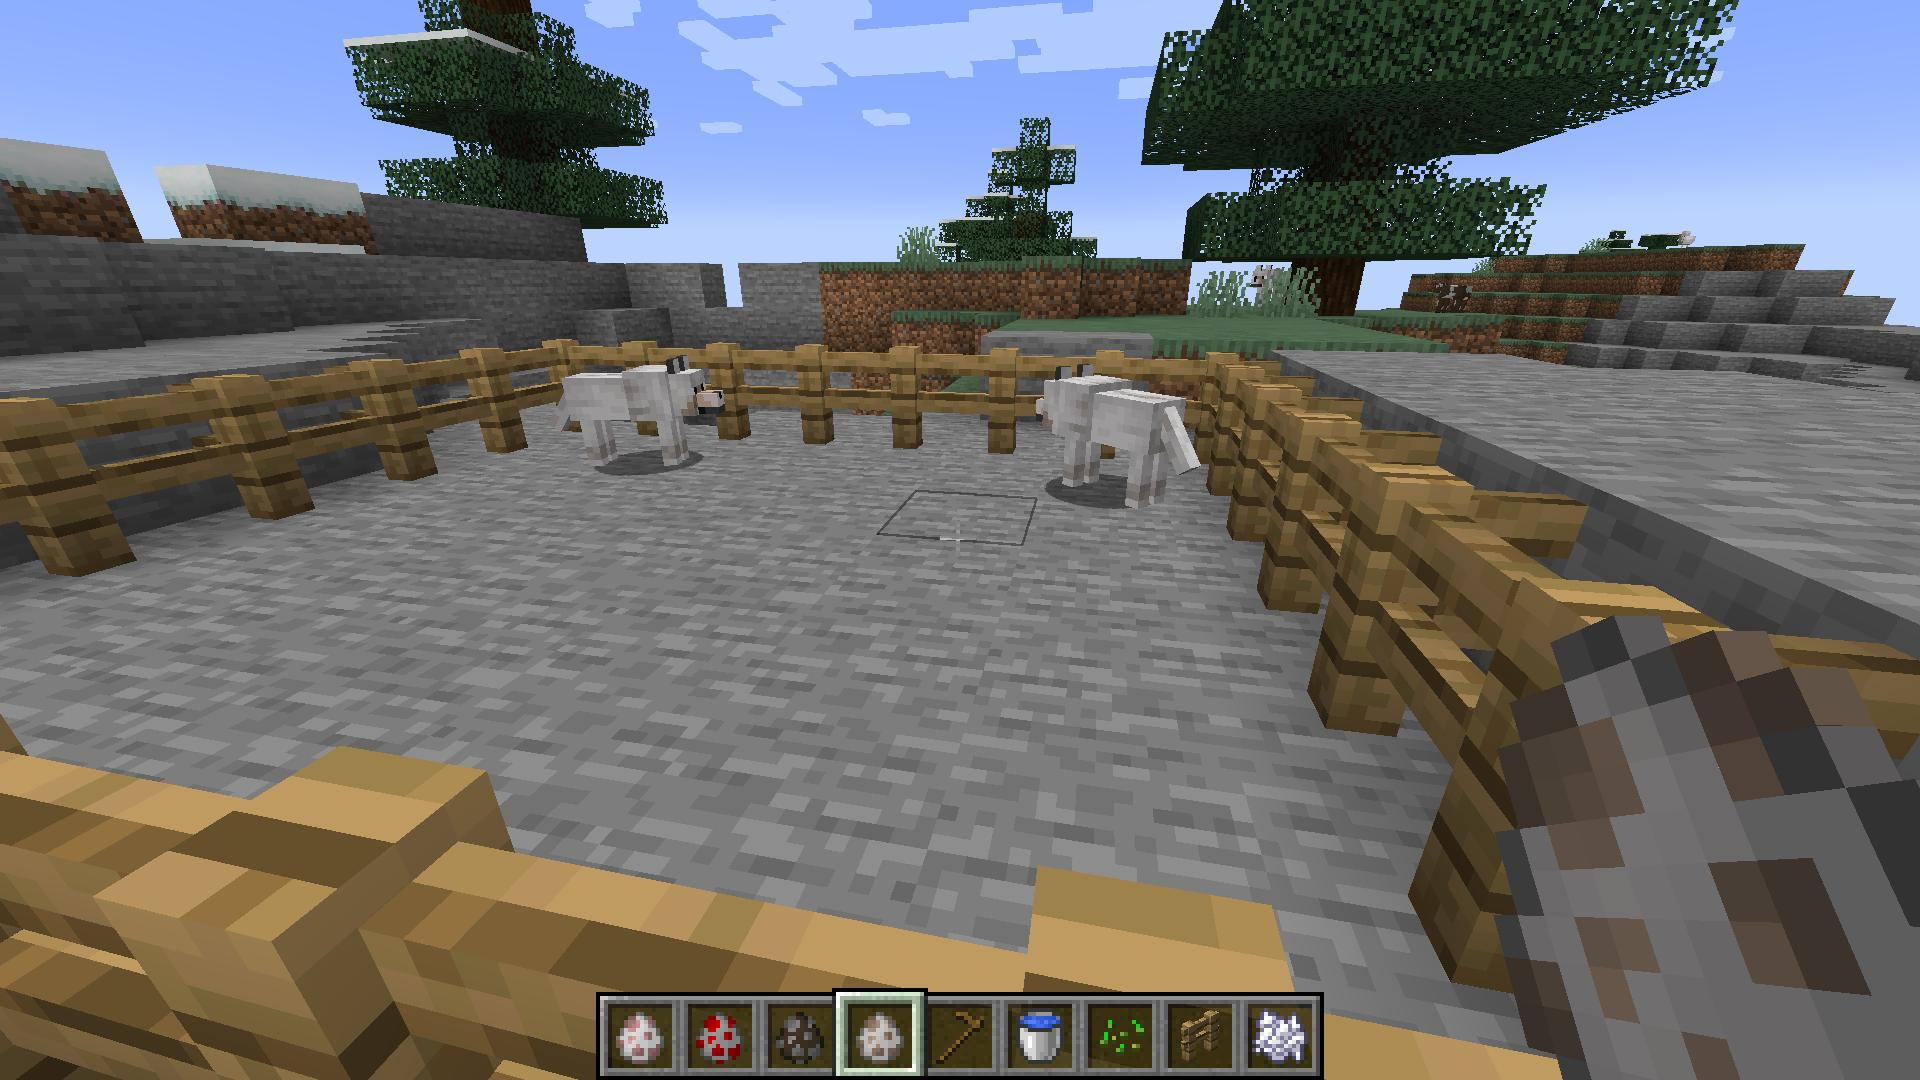wolf: (1035, 357, 1204, 514), (553, 353, 729, 479)
